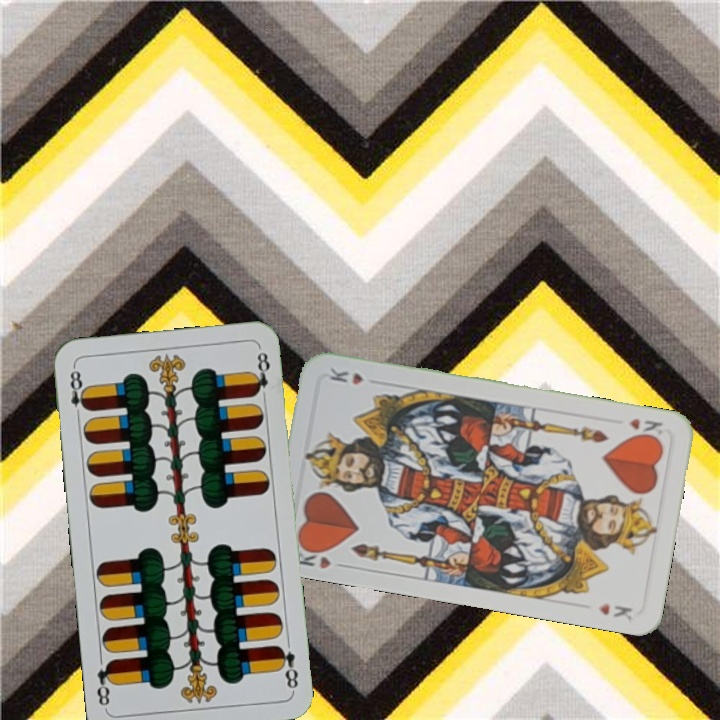E8: (66, 363, 91, 422), (273, 641, 301, 693)
HK: (293, 541, 350, 572), (625, 414, 665, 443)
